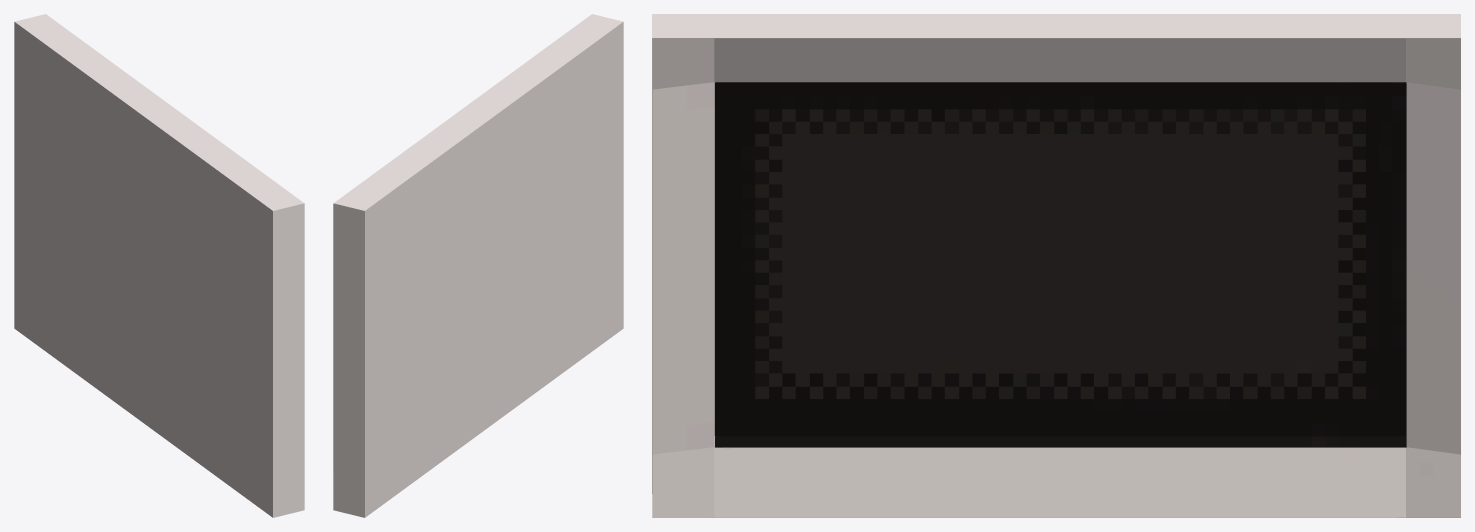
The model's file is door.fbx.
3 renders of one model, left to right at view 1: azimuth 30°, elevation 25°; view 2: azimuth 150°, elevation 25°; view 3: azimuth 270°, elevation 25°, orthographic. The views are drawn at different scales.
Parts seen in each view (by area): view 1: door; view 2: door; view 3: door.
Boxes of the visible parts, x1,y1,x2,y2 form: door: [14, 14, 304, 517]; door: [333, 14, 623, 517]; door: [652, 14, 1460, 517].
Bounding box in the file's own units: 11.36 × 106 × 162.
